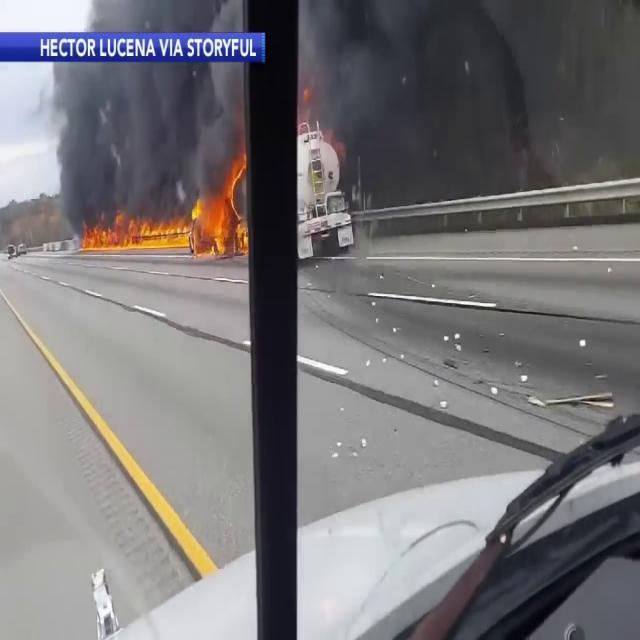Fire: (80, 177, 250, 254), (82, 202, 250, 250)
Smoke: (304, 0, 640, 178), (37, 0, 252, 220)
